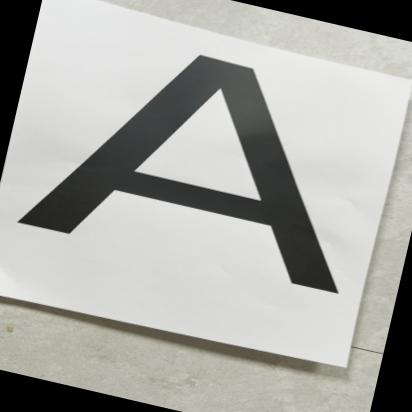seat: (15, 6, 394, 299)
